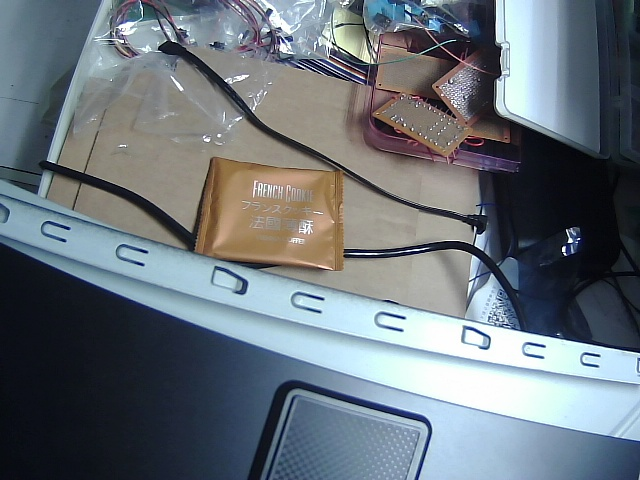frenchcookie: (173, 149, 357, 280)
